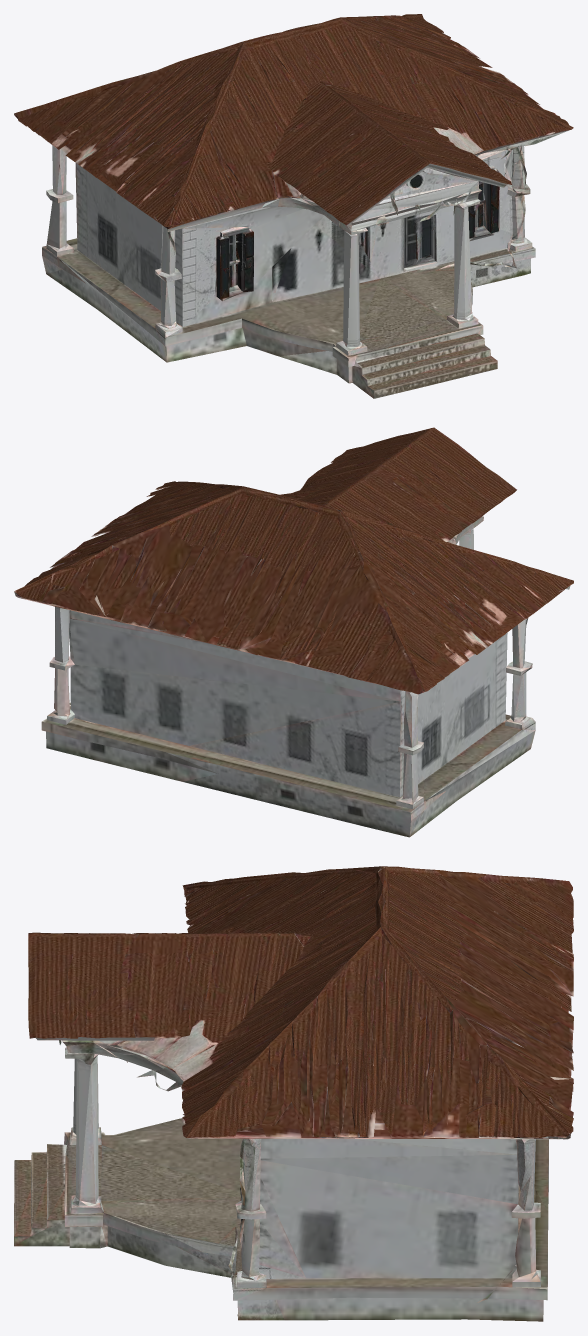
The model's file is Plantation_House.glb.
3 views of the same model, one above another, from view 1: azimuth 30°, elevation 25°; view 2: azimuth 150°, elevation 25°; view 3: azimuth 270°, elevation 25° (orthographic). The views are drawn at different scales.
Bounding box in the file's own units: 1.89 × 1.09 × 1.77.
1 material, 1 textured.
